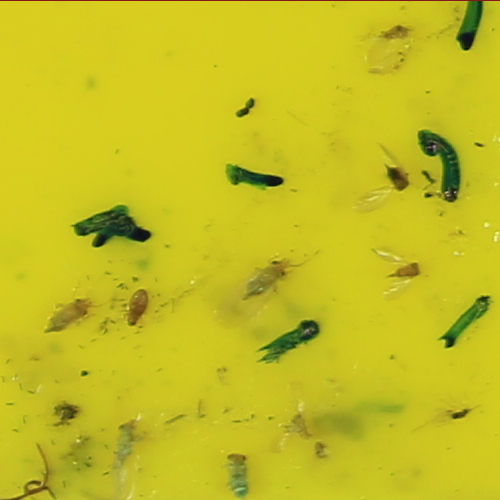psylla: (237, 256, 298, 300), (36, 294, 95, 333), (220, 450, 252, 499), (387, 256, 425, 282), (382, 159, 409, 193)
